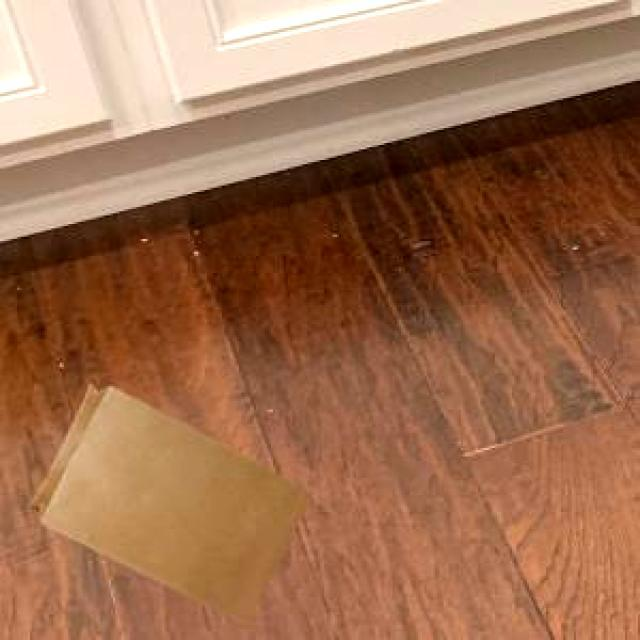Paper_Bag: (27, 381, 308, 620)
